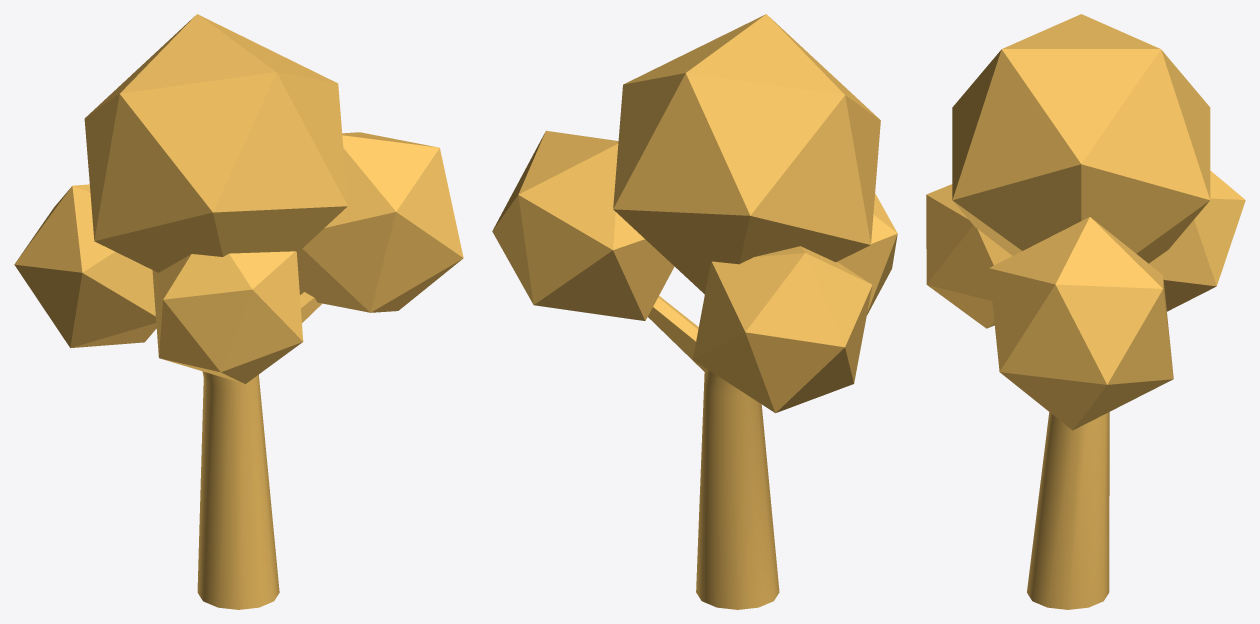
Rendered from Tree.gltf.
The picture shows the model from 3 angles, left to right: view 1: azimuth 30°, elevation 25°; view 2: azimuth 150°, elevation 25°; view 3: azimuth 270°, elevation 25°; orthographic projection.
Parts seen in each view (by area): view 1: trunk, leaves 3 (×2), leaves 2; view 2: trunk, leaves 3 (×2), leaves 2; view 3: trunk, leaves 3 (×2), leaves 2.
Boxes of the visible parts, left/top/right/bottom form: trunk: left=84, top=14, right=347, bottom=609; leaves 3 (×2): left=152, top=132, right=463, bottom=383; leaves 2: left=14, top=184, right=156, bottom=347; trunk: left=613, top=14, right=880, bottom=609; leaves 3 (×2): left=492, top=130, right=897, bottom=320; leaves 2: left=693, top=246, right=872, bottom=413; trunk: left=952, top=14, right=1210, bottom=609; leaves 3 (×2): left=926, top=184, right=1173, bottom=430; leaves 2: left=1149, top=170, right=1245, bottom=311.
Bounding box in the file's own units: 0.0542 × 0.0727 × 0.0386.
